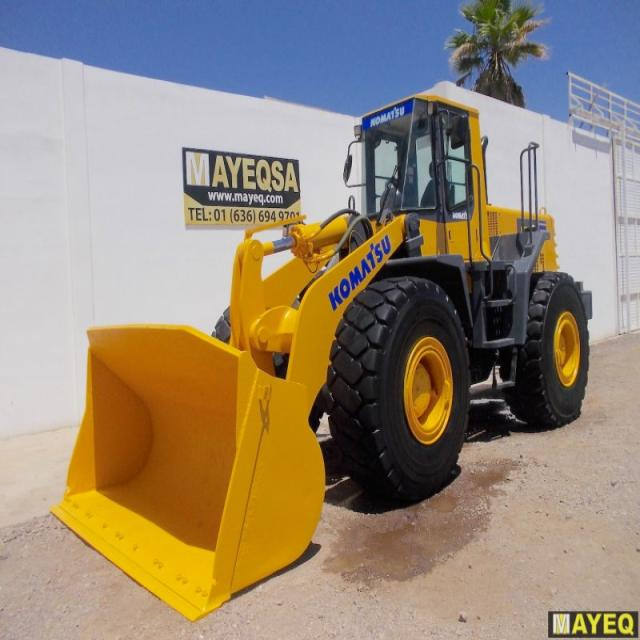bull_dozer/loader/grader: (48, 84, 594, 601)
